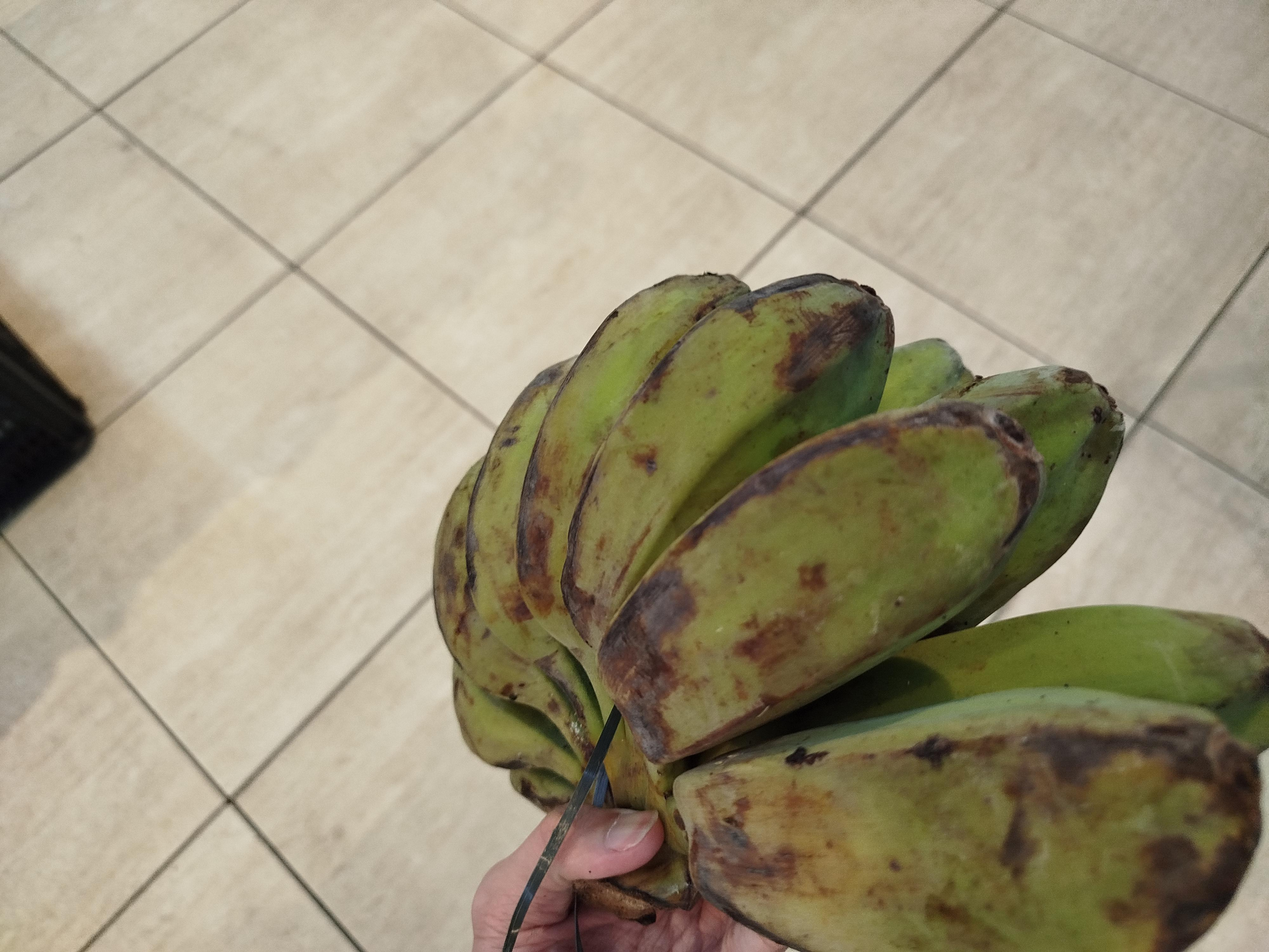underripe: (431, 274, 1267, 949)
